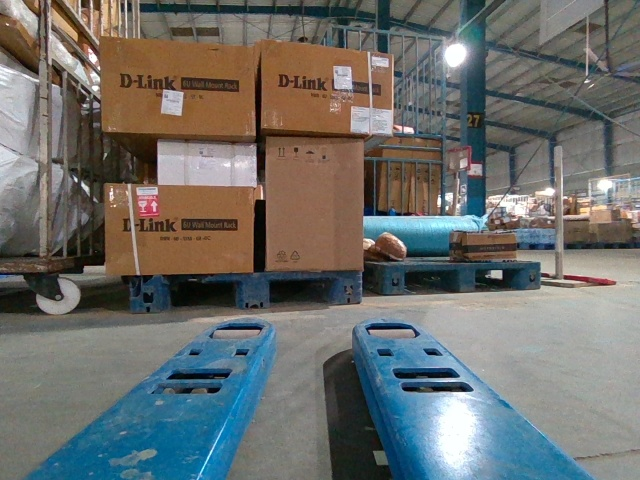pallet: (132, 270, 363, 313)
